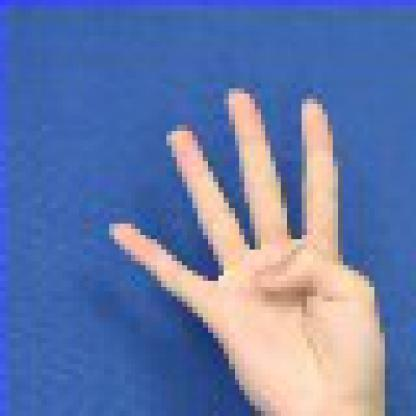four: (104, 73, 411, 411)
